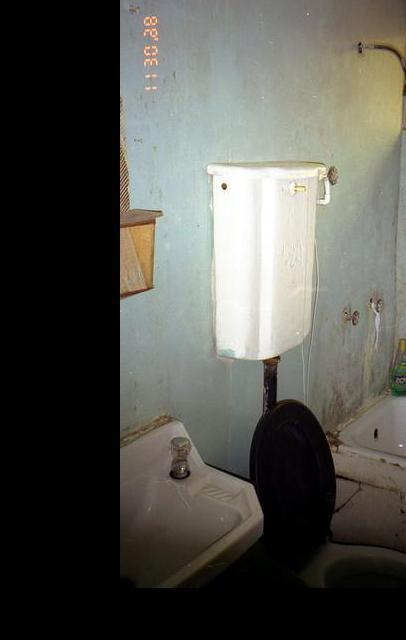Ducha: (319, 374, 406, 587)
Lavamanos: (120, 419, 255, 587)
